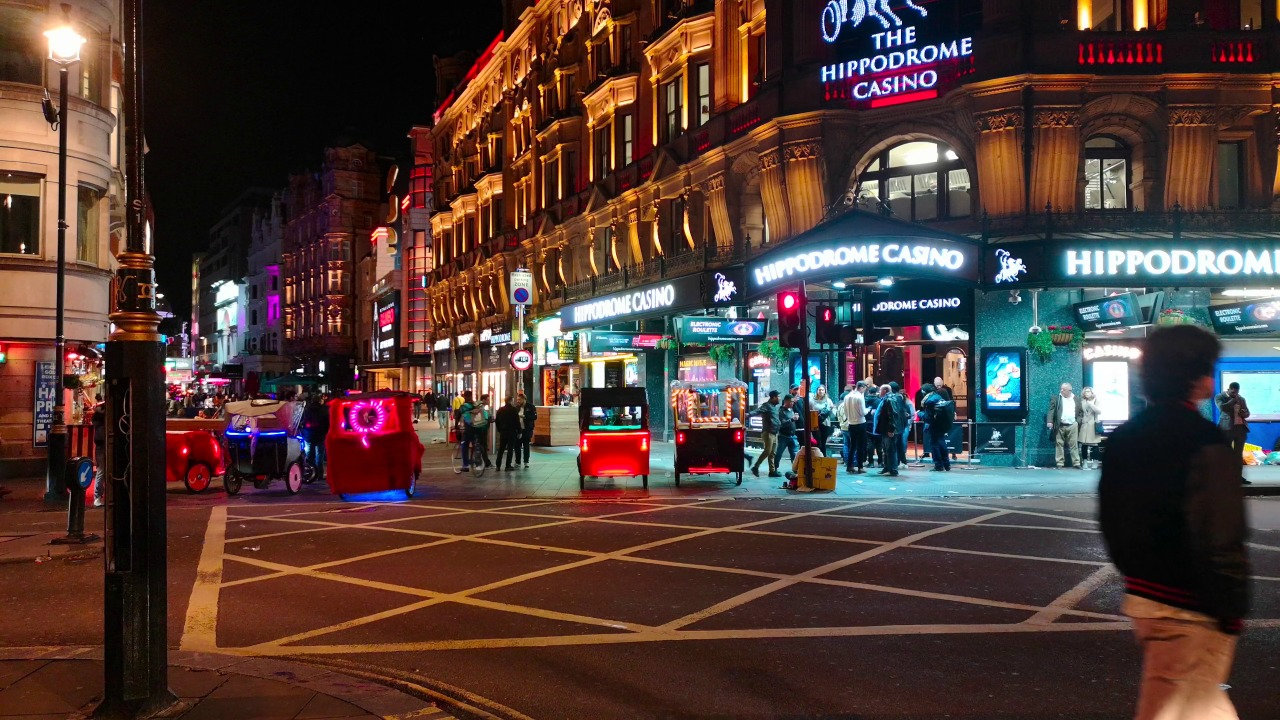car: (338, 397, 415, 498), (671, 388, 741, 484), (228, 397, 295, 496), (578, 387, 637, 492), (169, 406, 218, 495)
person: (1104, 332, 1246, 720), (911, 387, 951, 476), (1051, 372, 1073, 472), (874, 387, 893, 473), (845, 377, 862, 473), (1076, 389, 1100, 448), (455, 389, 476, 451), (761, 387, 774, 472), (1228, 380, 1252, 426), (496, 395, 509, 468), (795, 446, 824, 477), (782, 397, 796, 459), (522, 393, 531, 472), (475, 391, 493, 428), (437, 396, 454, 434), (815, 390, 826, 418), (936, 378, 949, 384)
